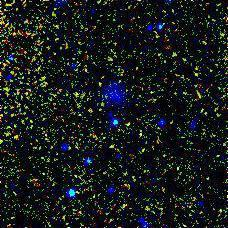star: (159, 151, 189, 181)
